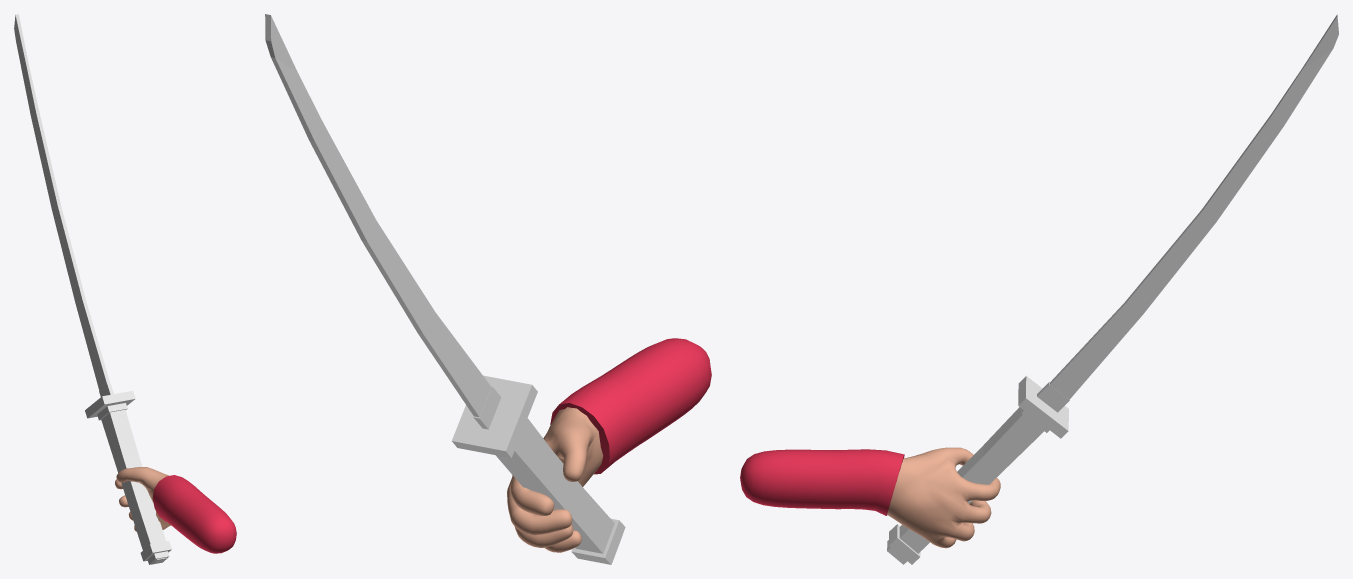
Rendered from ManoYEspadaFinal.fbx.
The picture shows the model from 3 angles, left to right: view 1: azimuth 30°, elevation 25°; view 2: azimuth 150°, elevation 25°; view 3: azimuth 270°, elevation 25°; orthographic projection. The views are drawn at different scales.
Parts seen in each view (by area): view 1: Cube.002, Sleeves, Cube.001; view 2: Cube.002, Sleeves, Cube.001; view 3: Cube.002, Sleeves, Cube.001.
Part boxes in pixels (left/top/right/bottom): Cube.002: left=14, top=14, right=171, bottom=564; Sleeves: left=152, top=475, right=236, bottom=553; Cube.001: left=115, top=467, right=170, bottom=531; Cube.002: left=265, top=14, right=625, bottom=564; Sleeves: left=550, top=338, right=711, bottom=474; Cube.001: left=507, top=407, right=603, bottom=552; Cube.002: left=887, top=14, right=1338, bottom=564; Sleeves: left=740, top=449, right=904, bottom=515; Cube.001: left=887, top=447, right=1000, bottom=548.
Bounding box in the file's own units: 4.15 × 36.38 × 35.16.
